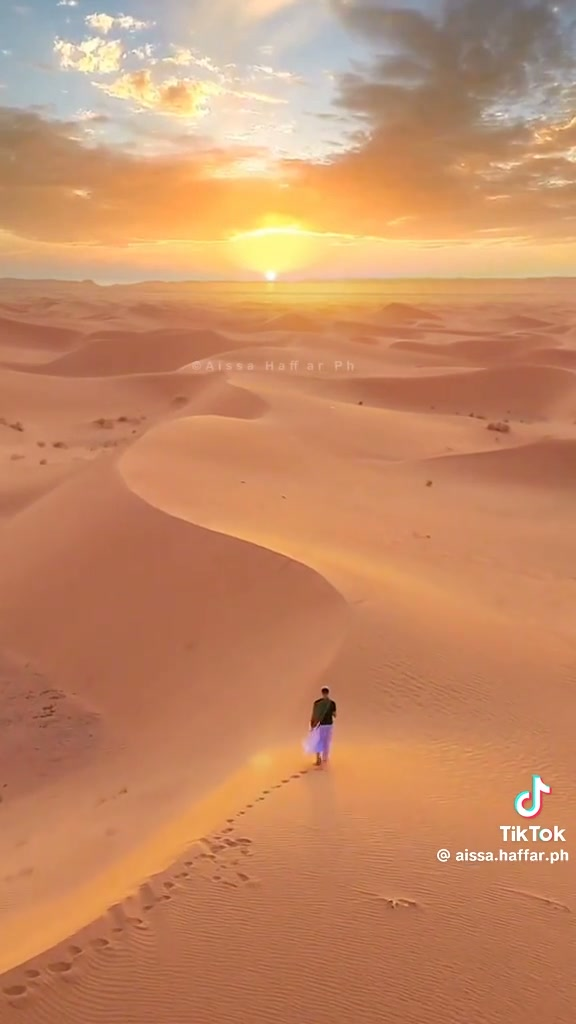human_footprint: (107, 768, 309, 937)
